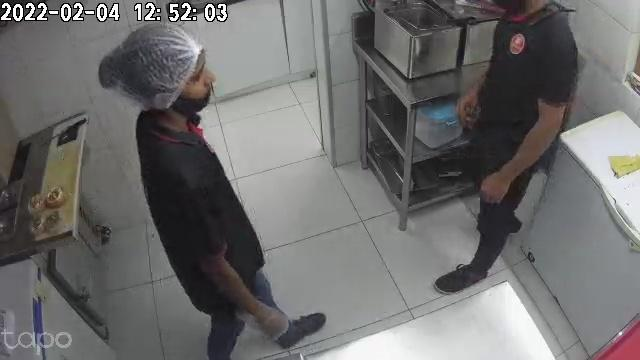gloves: (247, 297, 286, 341)
no_gloves: (480, 164, 514, 205)
